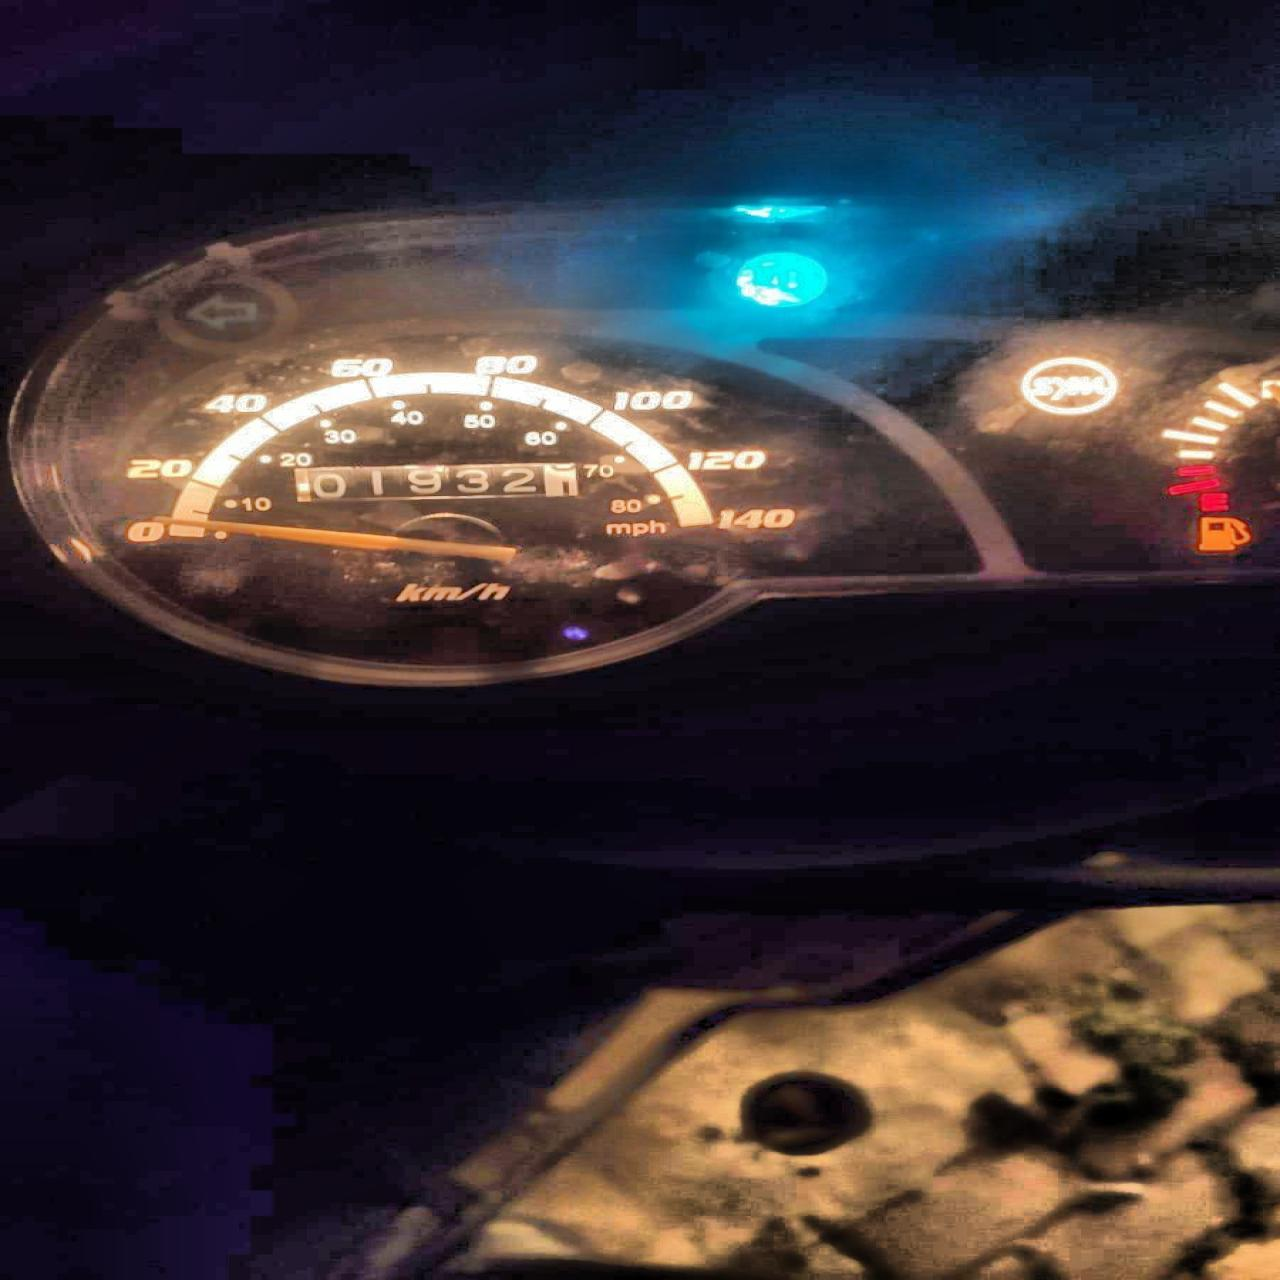0: (307, 470, 350, 502)
1: (361, 465, 387, 499), (549, 476, 576, 503)
2: (498, 465, 535, 496)
3: (454, 467, 489, 496)
9: (406, 465, 443, 497)
odometer: (287, 462, 585, 506)
